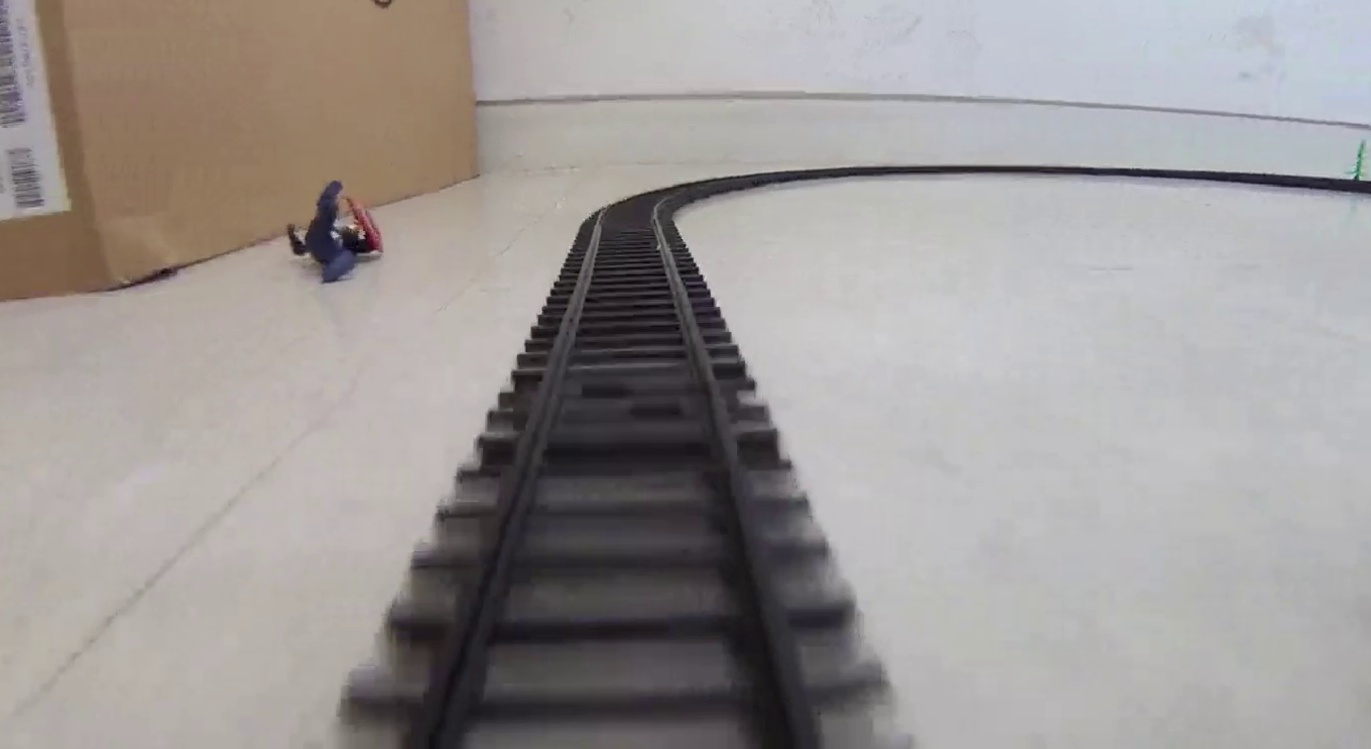people: (283, 176, 385, 284)
